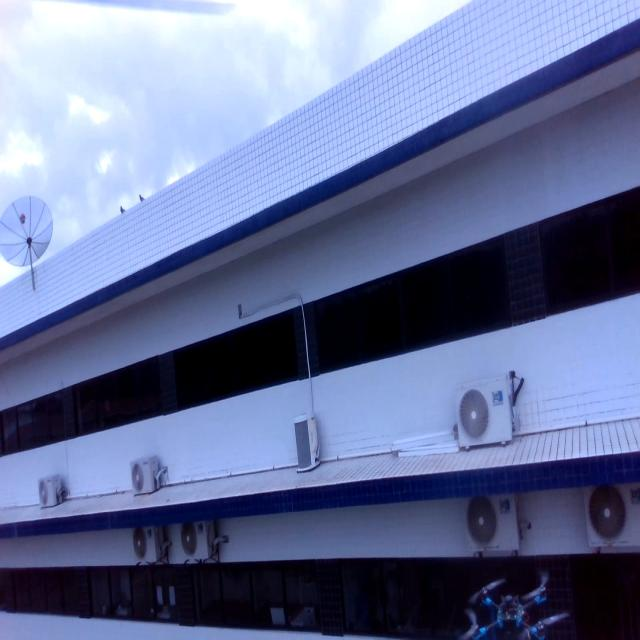-uav-: (453, 564, 573, 640)
